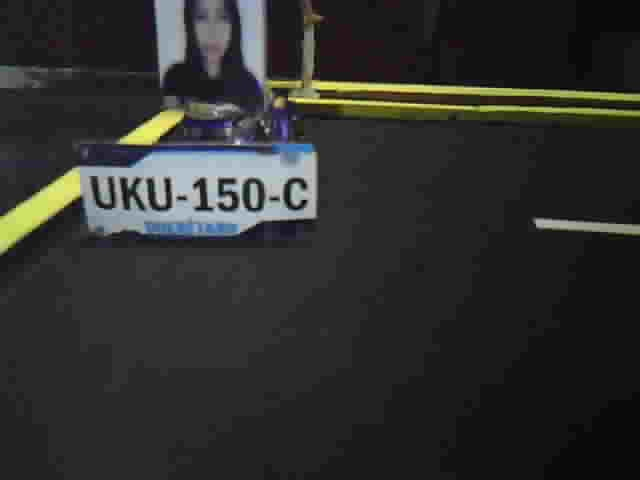PLACA: (77, 140, 324, 244)
ROSTRO: (158, 1, 263, 92)
